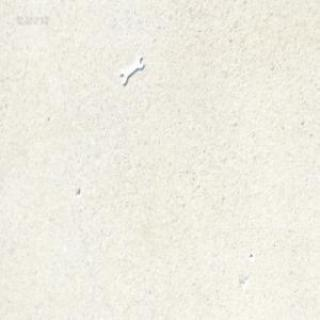Wrenchtrack_idkeyframe: (119, 58, 143, 88)
